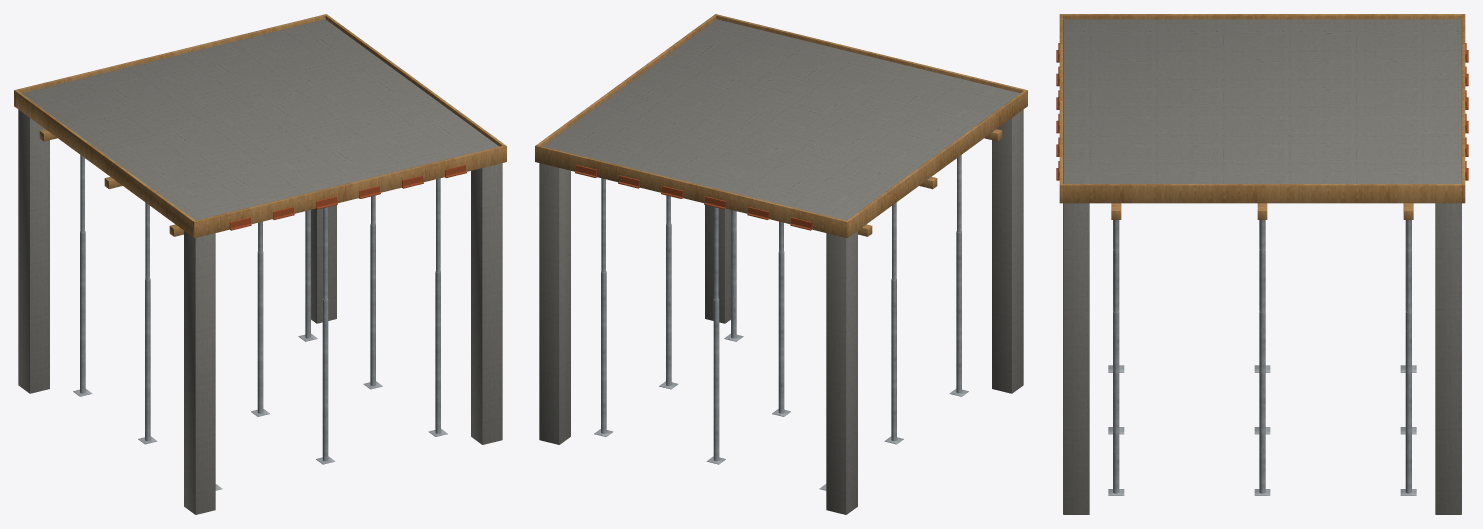
Rendered from KIT-EST-05.glb.
3 renders of one model, left to right at view 1: azimuth 30°, elevation 25°; view 2: azimuth 150°, elevation 25°; view 3: azimuth 270°, elevation 25°, orthographic. The views are drawn at different scales.
Visible parts, largest first — view 1: KIT-EST-05_capa, KIT-EST-05_pilar, KIT-EST-05_pilar.002, KIT-EST-05_pilar.001, KIT-EST-05_borda, KIT-EST-05_borda.002, KIT-EST-05_pilar.003, KIT-EST-05_borda.001, KIT-EST-05_borda.003, KIT-EST-05_et1.004, KIT-EST-05_et1.003, KIT-EST-05_et1.006 (+4 smaller); view 2: KIT-EST-05_capa, KIT-EST-05_pilar.001, KIT-EST-05_pilar.003, KIT-EST-05_pilar, KIT-EST-05_borda.001, KIT-EST-05_borda.002, KIT-EST-05_pilar.002, KIT-EST-05_borda, KIT-EST-05_borda.003, KIT-EST-05_et1.004, KIT-EST-05_et1.005, KIT-EST-05_et1.008 (+4 smaller); view 3: KIT-EST-05_capa, KIT-EST-05_pilar.002, KIT-EST-05_pilar.003, KIT-EST-05_borda.003, KIT-EST-05_borda.002, KIT-EST-05_et1.007, KIT-EST-05_et1.006, KIT-EST-05_et1.008, KIT-EST-05_borda, KIT-EST-05_borda.001, KIT-EST-05_et2.006, KIT-EST-05_et2.008.
Part boxes in pixels (left/top/right/bottom): KIT-EST-05_capa: left=22, top=19, right=498, bottom=220; KIT-EST-05_pilar: left=184, top=231, right=215, bottom=514; KIT-EST-05_pilar.002: left=471, top=163, right=502, bottom=444; KIT-EST-05_pilar.001: left=18, top=109, right=49, bottom=393; KIT-EST-05_borda: left=193, top=145, right=506, bottom=238; KIT-EST-05_borda.002: left=15, top=91, right=194, bottom=236; KIT-EST-05_pilar.003: left=311, top=205, right=336, bottom=323; KIT-EST-05_borda.001: left=14, top=14, right=327, bottom=106; KIT-EST-05_borda.003: left=325, top=15, right=504, bottom=146; KIT-EST-05_et1.004: left=257, top=251, right=263, bottom=413; KIT-EST-05_et1.003: left=322, top=299, right=328, bottom=461; KIT-EST-05_et1.006: left=435, top=271, right=440, bottom=433; KIT-EST-05_capa: left=543, top=19, right=1019, bottom=220; KIT-EST-05_pilar.001: left=826, top=231, right=857, bottom=514; KIT-EST-05_pilar.003: left=539, top=163, right=570, bottom=444; KIT-EST-05_pilar: left=992, top=109, right=1023, bottom=393; KIT-EST-05_borda.001: left=535, top=145, right=848, bottom=238; KIT-EST-05_borda.002: left=847, top=90, right=1026, bottom=236; KIT-EST-05_pilar.002: left=705, top=205, right=730, bottom=323; KIT-EST-05_borda: left=714, top=14, right=1027, bottom=106; KIT-EST-05_borda.003: left=537, top=15, right=716, bottom=146; KIT-EST-05_et1.004: left=778, top=251, right=784, bottom=413; KIT-EST-05_et1.005: left=713, top=299, right=719, bottom=461; KIT-EST-05_et1.008: left=601, top=271, right=606, bottom=433; KIT-EST-05_capa: left=1063, top=19, right=1461, bottom=183; KIT-EST-05_pilar.002: left=1063, top=203, right=1089, bottom=514; KIT-EST-05_pilar.003: left=1435, top=203, right=1461, bottom=514; KIT-EST-05_borda.003: left=1063, top=184, right=1461, bottom=203; KIT-EST-05_borda.002: left=1063, top=14, right=1461, bottom=19; KIT-EST-05_et1.007: left=1259, top=311, right=1265, bottom=493; KIT-EST-05_et1.006: left=1113, top=311, right=1119, bottom=493; KIT-EST-05_et1.008: left=1405, top=311, right=1411, bottom=493; KIT-EST-05_borda: left=1059, top=14, right=1062, bottom=203; KIT-EST-05_borda.001: left=1462, top=14, right=1465, bottom=203; KIT-EST-05_et2.006: left=1113, top=220, right=1118, bottom=312; KIT-EST-05_et2.008: left=1406, top=220, right=1411, bottom=312.
Bounding box in the file's own units: 3.05 × 2.75 × 3.1.
5 materials, 5 textured.
